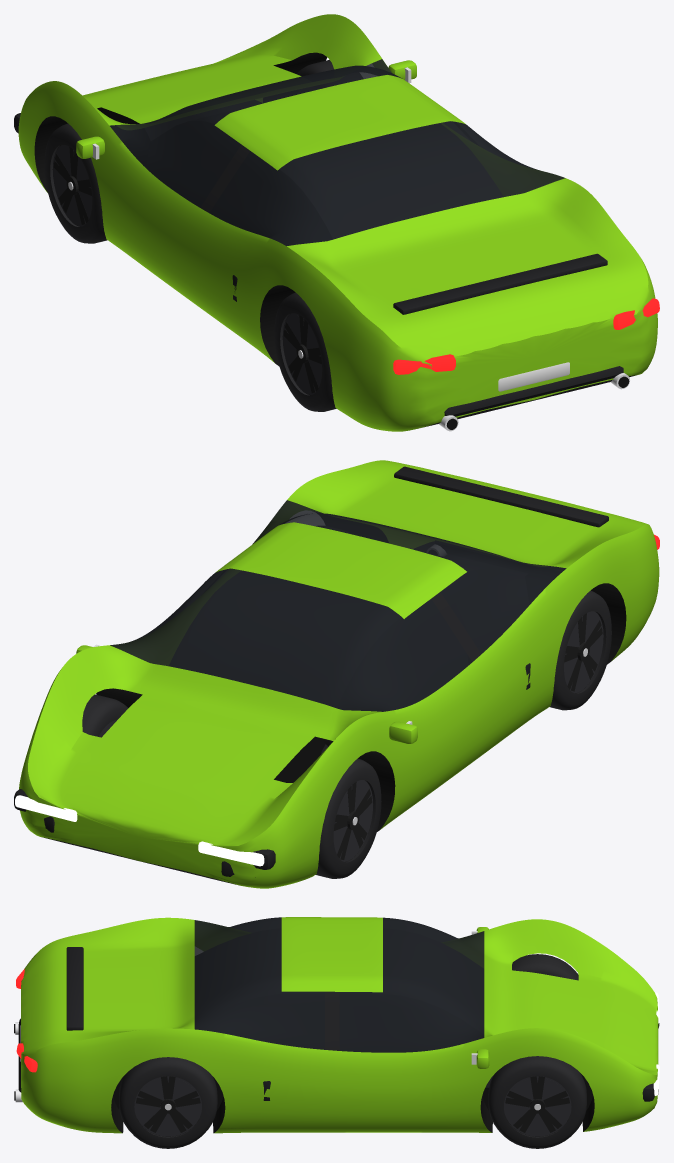
The model's file is lamborghini_huracan_evo.glb.
The picture shows the model from 3 angles, top to bottom: view 1: azimuth 30°, elevation 25°; view 2: azimuth 150°, elevation 25°; view 3: azimuth 270°, elevation 25°; orthographic projection. The views are drawn at different scales.
Visible parts, largest first — view 1: Body, Wheel_RL, Wheel_FL; view 2: Body, Wheel_FL, Wheel_RL, Wheel_FR; view 3: Body, Wheel_FR, Wheel_RR, Wheel_FL.
Boxes of the visible parts, box(x1,y1,x2,y2) form: Body: box(14, 14, 659, 431); Wheel_RL: box(274, 292, 336, 411); Wheel_FL: box(44, 123, 107, 243); Body: box(14, 460, 659, 888); Wheel_FL: box(315, 758, 381, 878); Wheel_RL: box(550, 590, 611, 710); Wheel_FR: box(82, 694, 128, 737); Body: box(14, 917, 659, 1133); Wheel_FR: box(488, 1056, 586, 1148); Wheel_RR: box(119, 1057, 217, 1148); Wheel_FL: box(512, 954, 578, 980).
Bounding box in the file's own units: 2.21 × 1.17 × 4.58.
